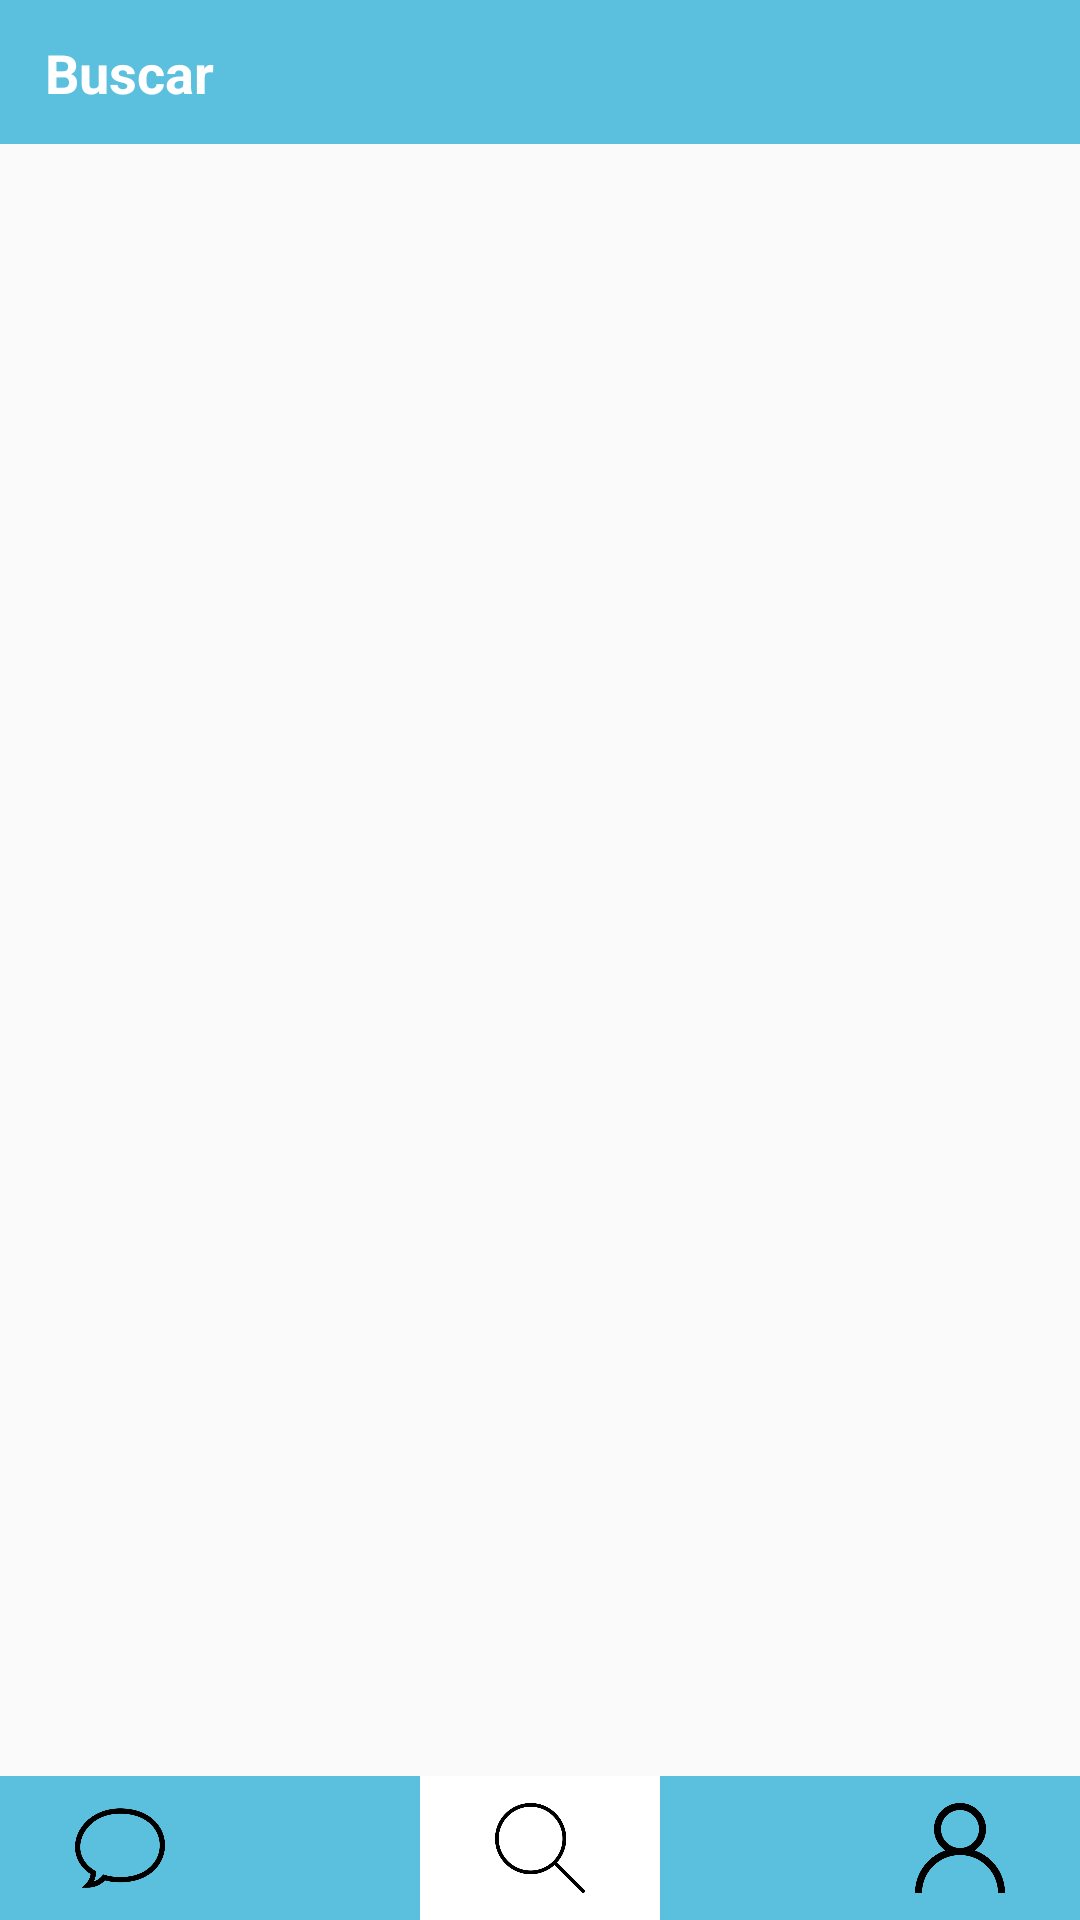

Locate icon controls on the screen. Image size 1080 x 1920, boxes as (x1, y1, x2, y2).
buscar: (495, 1803, 585, 1893)
comentario: (75, 1808, 165, 1888)
